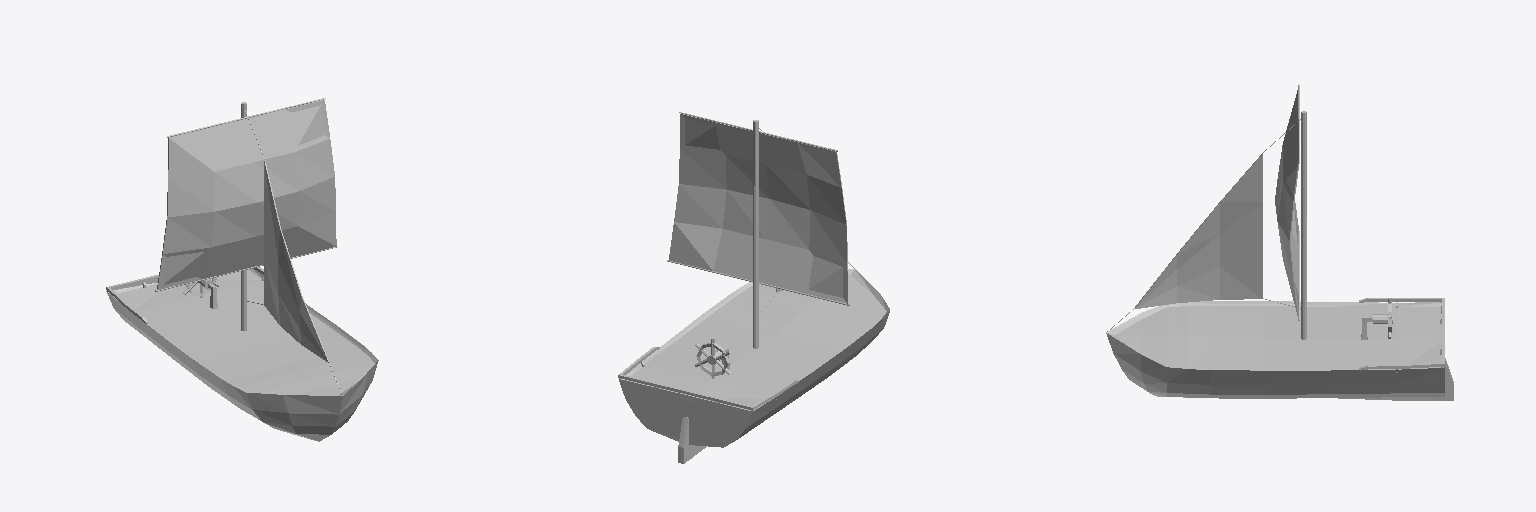
The model's file is trader.obj.
3 renders of one model, left to right at view 1: azimuth 30°, elevation 25°; view 2: azimuth 150°, elevation 25°; view 3: azimuth 270°, elevation 25°, orthographic.
Visible parts, largest first — view 1: Sail, Body, Mast; view 2: Body, Sail, Mast; view 3: Body, Sail, Mast.
Part boxes in pixels (x1,y1,x2,y2): Sail: (157,100,342,395); Body: (106,267,378,441); Mast: (155,98,337,330); Body: (618,269,889,463); Sail: (669,114,854,313); Mast: (667,112,849,348); Body: (1106,298,1453,400); Sail: (1107,90,1300,331); Mast: (1298,85,1306,339).
Bounding box in the file's own units: 7.43 × 11.25 × 12.33.